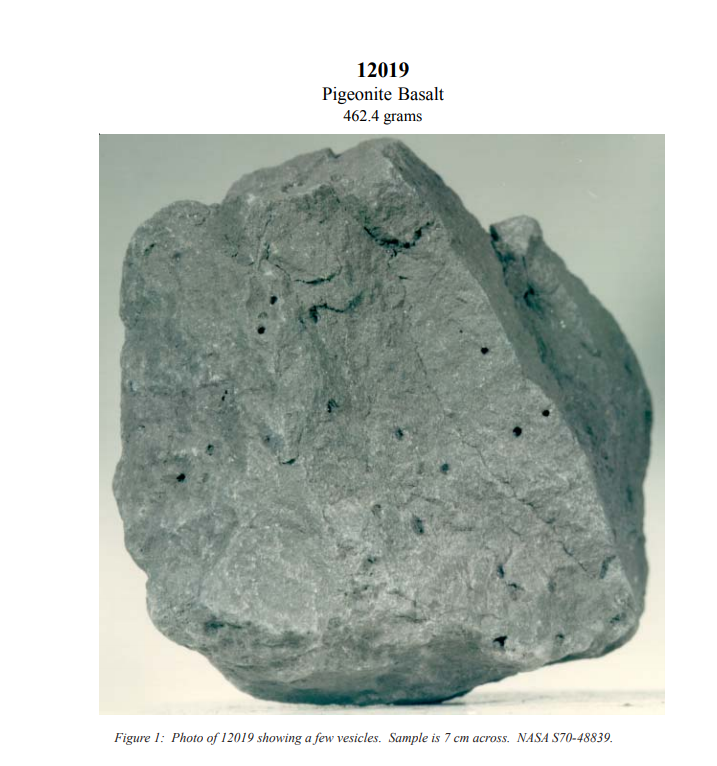Basalt: (96, 135, 661, 695), (186, 260, 607, 639)
